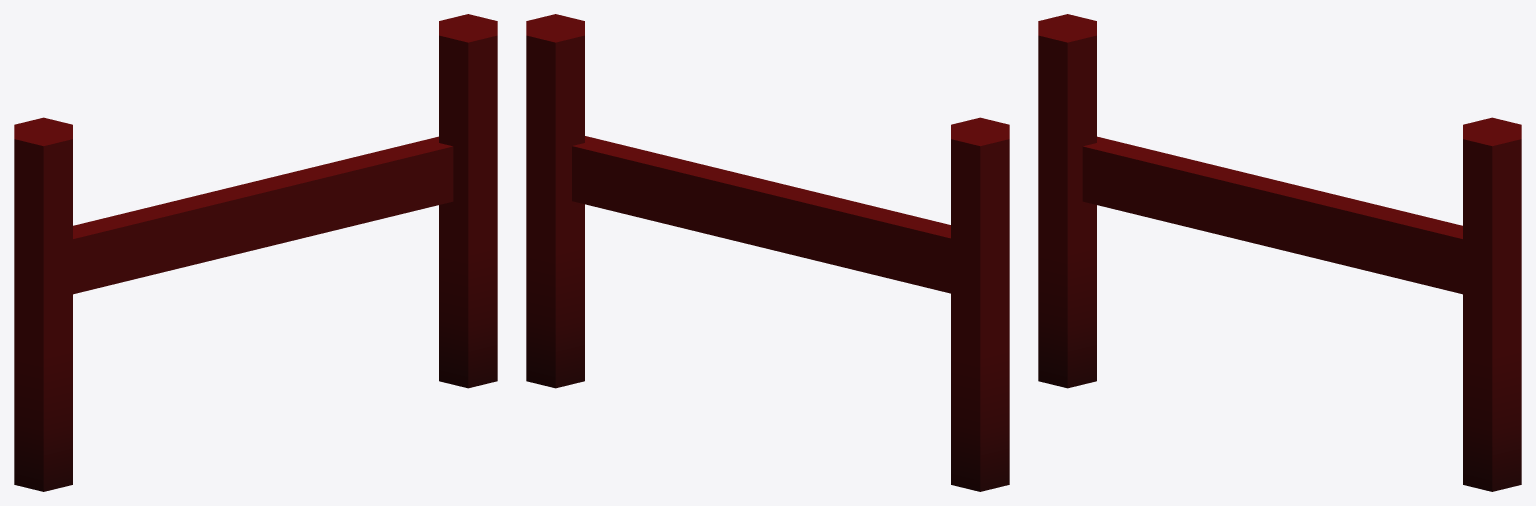
Rendered from BasicRoundWoodFence.glb.
3 views of the same model, side by side, from view 1: azimuth 30°, elevation 25°; view 2: azimuth 150°, elevation 25°; view 3: azimuth 330°, elevation 25° (orthographic).
Visible parts, largest first — view 1: BasicRoundWoodFence; view 2: BasicRoundWoodFence; view 3: BasicRoundWoodFence.
Part boxes in pixels (left/top/right/bottom): BasicRoundWoodFence: left=14, top=14, right=497, bottom=491; BasicRoundWoodFence: left=526, top=14, right=1009, bottom=491; BasicRoundWoodFence: left=1038, top=14, right=1521, bottom=491.
Size of the model in its own units: 8.74 by 5.98 by 0.9195.
